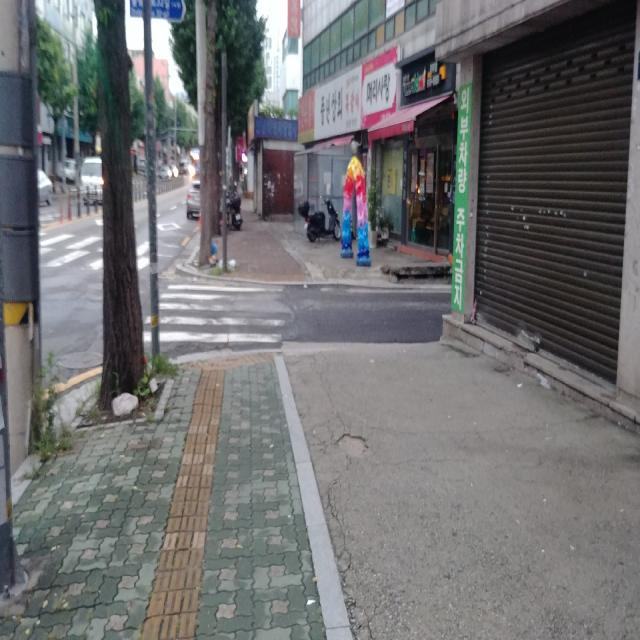횡단보도: (143, 283, 285, 345)
